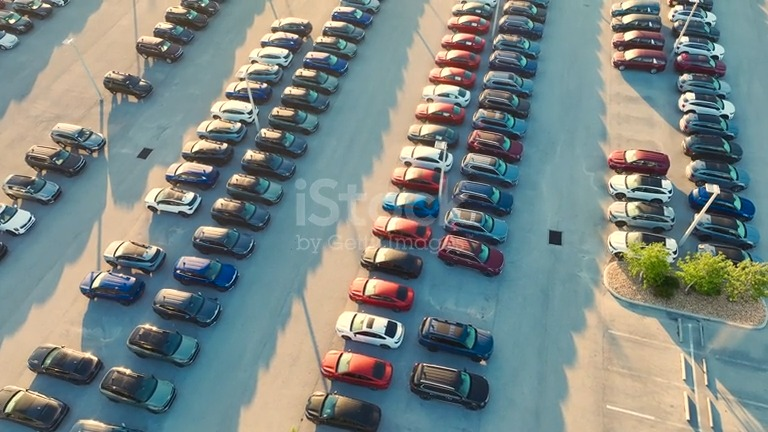car: (423, 315, 503, 364), (411, 364, 487, 410), (0, 389, 76, 430), (100, 363, 173, 405), (306, 391, 379, 432), (129, 325, 199, 365), (438, 232, 504, 274), (322, 346, 391, 385), (157, 284, 223, 320), (334, 310, 401, 345), (28, 345, 94, 379), (609, 227, 677, 260), (445, 203, 506, 239), (82, 269, 145, 303), (351, 276, 414, 310), (686, 172, 750, 205), (452, 177, 511, 212), (172, 255, 234, 288), (612, 195, 678, 226), (89, 405, 165, 431), (361, 244, 421, 276), (196, 218, 254, 251), (462, 147, 516, 181), (28, 140, 86, 171), (215, 192, 271, 224), (683, 147, 744, 176), (615, 170, 677, 198), (372, 219, 430, 248), (109, 239, 165, 269), (680, 124, 740, 152), (52, 119, 106, 150), (4, 171, 60, 200), (239, 165, 293, 195), (706, 204, 756, 236), (680, 102, 737, 130), (608, 149, 669, 175), (469, 128, 523, 157), (147, 188, 201, 216), (476, 97, 527, 126), (253, 143, 304, 172), (391, 161, 445, 188), (678, 83, 734, 109), (382, 192, 438, 218), (263, 116, 313, 145), (481, 78, 532, 106), (104, 71, 153, 100), (614, 57, 669, 82), (676, 45, 729, 70), (489, 58, 537, 85), (277, 91, 324, 118), (288, 73, 335, 100), (136, 36, 183, 63), (677, 63, 729, 87), (493, 40, 540, 66), (400, 142, 450, 166), (183, 139, 231, 164), (168, 163, 214, 189), (208, 97, 255, 122), (421, 96, 470, 119), (300, 56, 345, 81), (614, 38, 667, 59), (406, 125, 456, 147), (500, 21, 544, 46), (311, 40, 355, 65), (0, 204, 35, 235), (197, 120, 244, 143), (221, 78, 270, 100), (427, 74, 473, 96), (170, 1, 214, 24), (674, 13, 721, 34), (614, 21, 665, 40), (434, 56, 479, 77), (153, 21, 194, 44), (320, 25, 362, 47), (440, 39, 484, 59), (331, 10, 371, 32), (256, 36, 297, 57), (246, 51, 289, 71), (237, 62, 280, 82), (270, 21, 310, 41), (448, 21, 490, 40), (615, 7, 664, 23), (672, 0, 718, 17), (0, 10, 32, 34), (13, 0, 51, 19), (180, 0, 218, 19), (453, 7, 494, 24), (340, 0, 380, 17), (688, 200, 710, 224)
